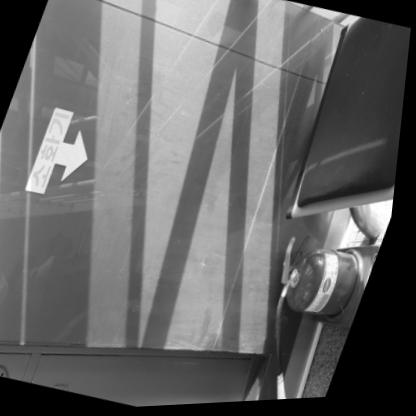FE: (268, 225, 388, 340)
